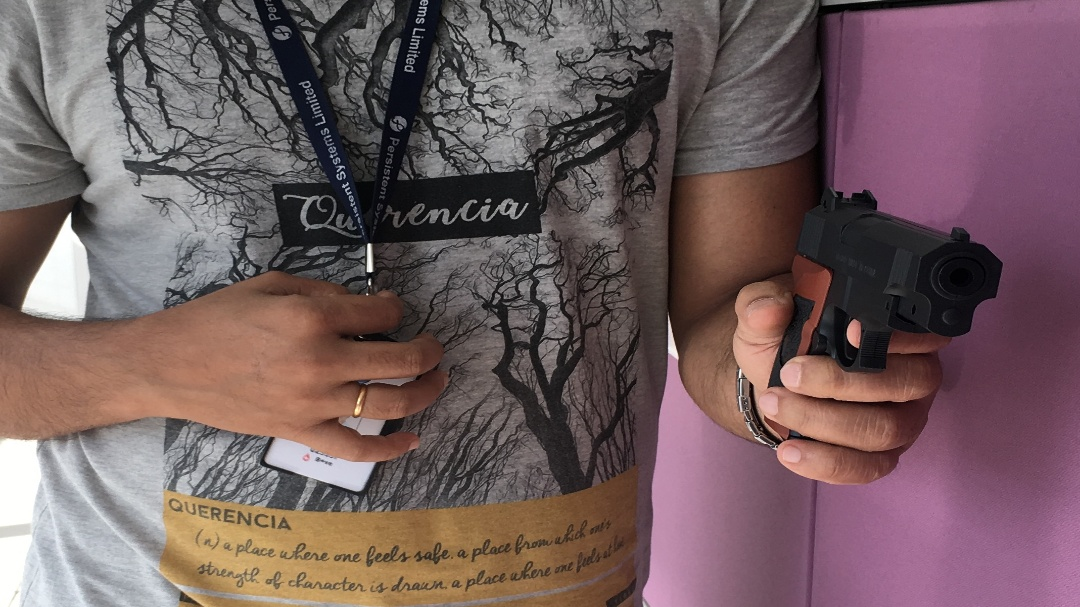gun: (784, 183, 1004, 376)
